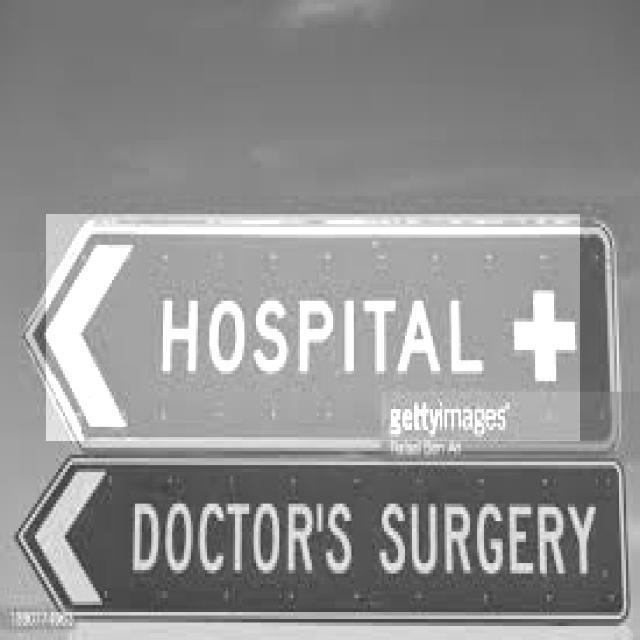hospital ahead: (32, 205, 608, 451)
